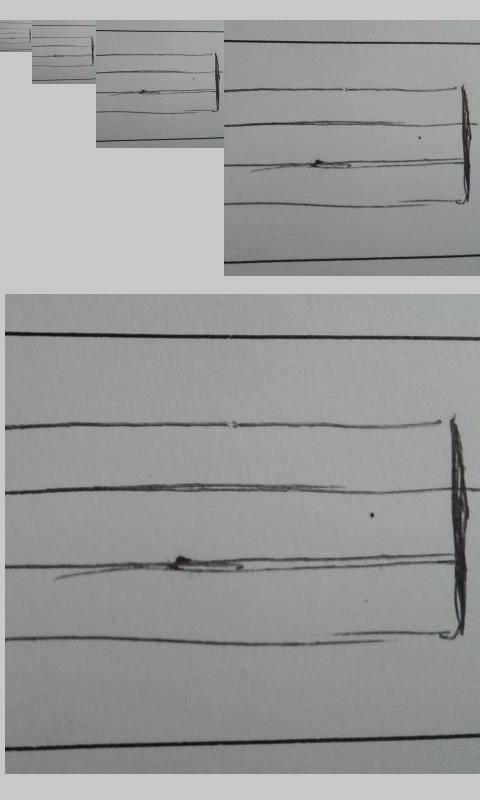list_view: (3, 416, 469, 655), (229, 84, 470, 209), (97, 53, 220, 116), (35, 36, 94, 68), (1, 27, 32, 45)
